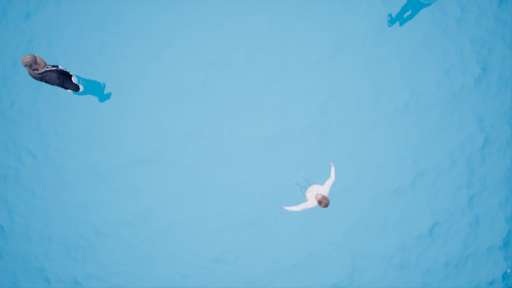person: (18, 51, 118, 106), (287, 156, 340, 214), (377, 1, 447, 35)
